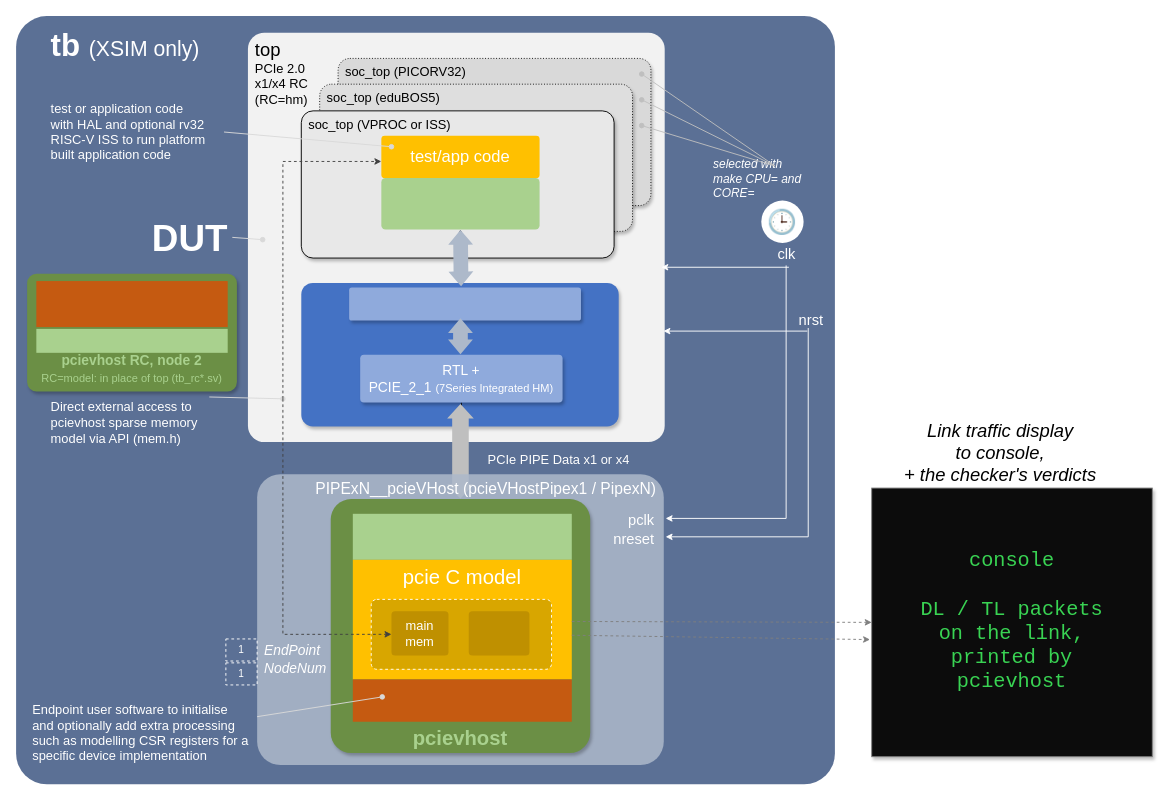
The diagram is 1174 pixels wide and 799 high, and some of its shapes have lost their labels. Each missing label, with the centre of its shape:
A7RC driver + checker VUserMain2 + a7rc_check: 59 rules: the point at 131,304
config space: the point at 498,633
CSR registers: the point at 465,305
user code: the point at 461,700
vproc (0): the point at 460,203
vproc (1): the point at 461,536
vproc (2): the point at 131,340
